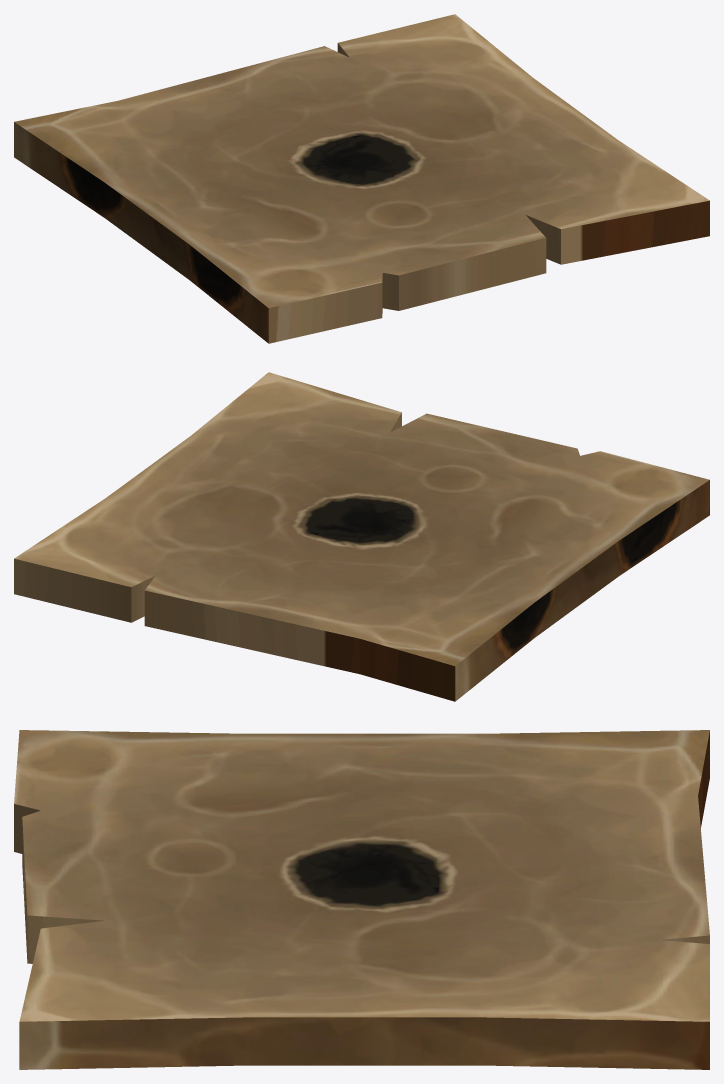
File: Table.fbx
3 renders of one model, top to bottom at view 1: azimuth 30°, elevation 25°; view 2: azimuth 150°, elevation 25°; view 3: azimuth 270°, elevation 25°, orthographic. The views are drawn at different scales.
Parts seen in each view (by area): view 1: defaultMaterial.001; view 2: defaultMaterial.001; view 3: defaultMaterial.001.
Part boxes in pixels (box(x1,y1,x2,y2)): defaultMaterial.001: box(14, 14, 709, 343); defaultMaterial.001: box(14, 372, 709, 701); defaultMaterial.001: box(14, 730, 709, 1069).
Bounding box in the file's own units: 260 × 20 × 262.
